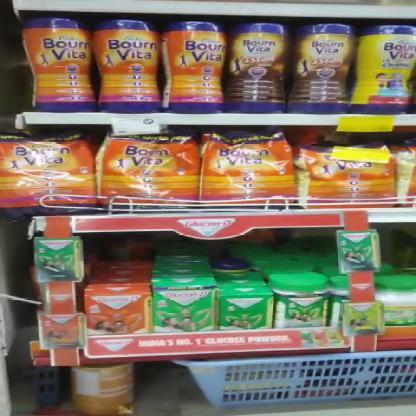Glucon D Regular 1-KG: (149, 284, 215, 334), (218, 290, 272, 332)
Glucon D Regular 2-KG: (276, 270, 332, 328)
Glucon D Tangy orange 1-KG: (80, 283, 148, 335)
